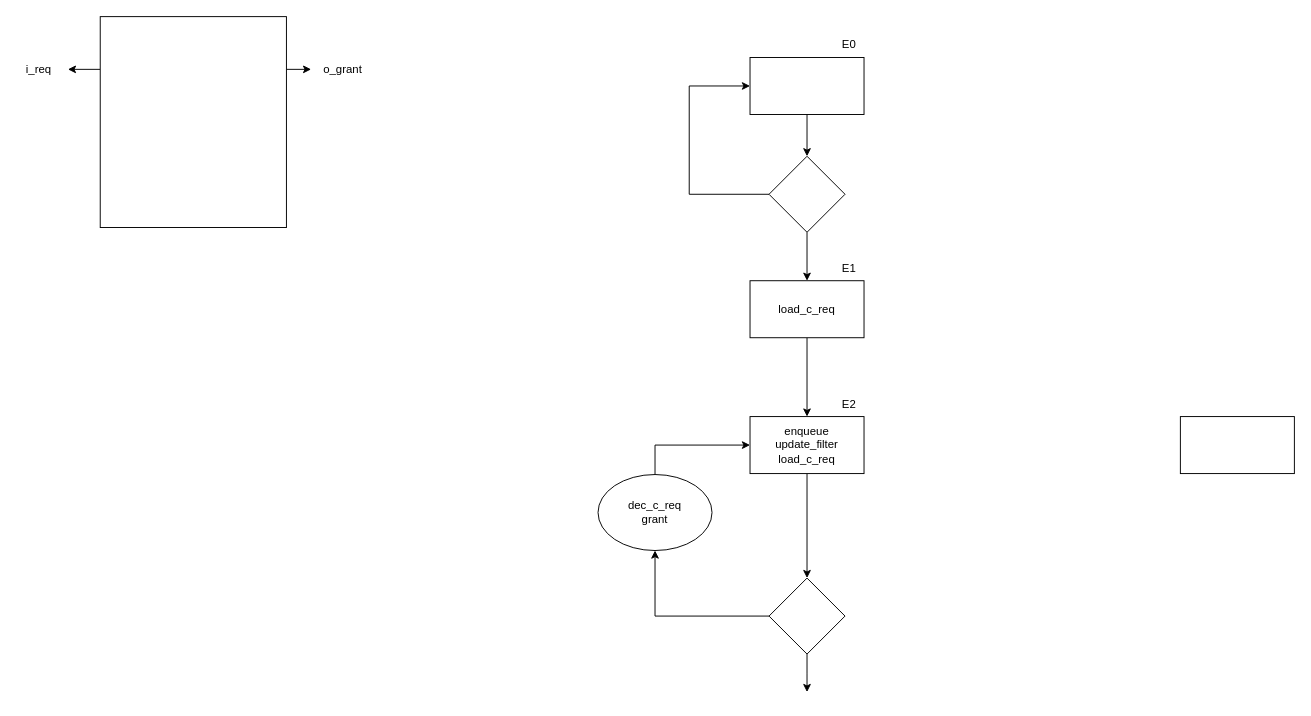
The diagram is 1311 pixels wide and 716 high, and some of its shapes have lost their labels. Here are the shapes that lost their labels. From the top down, the centre of each, then its label:
At [806,193]: "new_req".
At [806,615]: "done_req".
